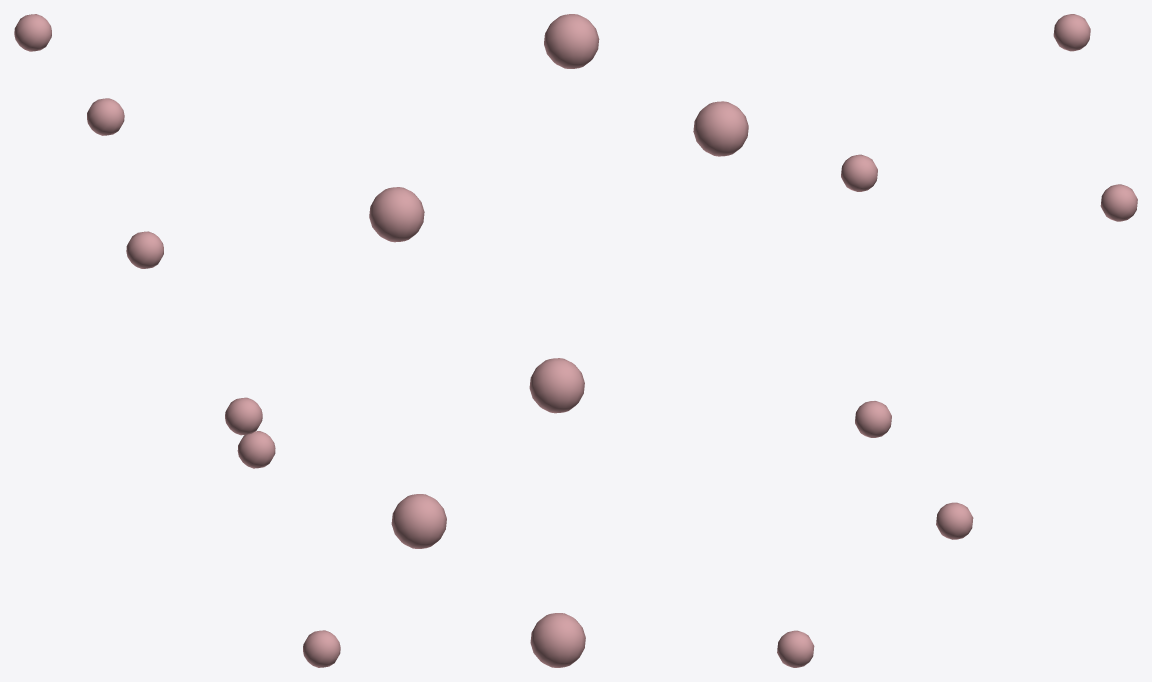
3 renders of one model, left to right at view 1: azimuth 30°, elevation 25°; view 2: azimuth 150°, elevation 25°; view 3: azimuth 270°, elevation 25°, orthographic. The views are drawn at different scales.
Parts seen in each view (by area): view 1: ZA_013a1c6e993a4f2d; view 2: ZA_013a1c6e993a4f2d; view 3: ZA_013a1c6e993a4f2d.
Boxes of the visible parts, x1,y1,x2,y2 form: ZA_013a1c6e993a4f2d: [14, 14, 340, 667]; ZA_013a1c6e993a4f2d: [369, 14, 748, 667]; ZA_013a1c6e993a4f2d: [777, 14, 1137, 667].
Bounding box in the file's own units: 0.0155 × 0.0438 × 0.0248.
